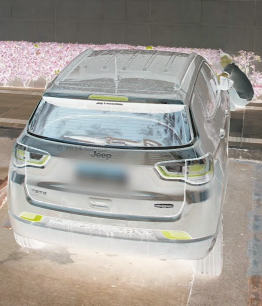car: (10, 46, 234, 278)
